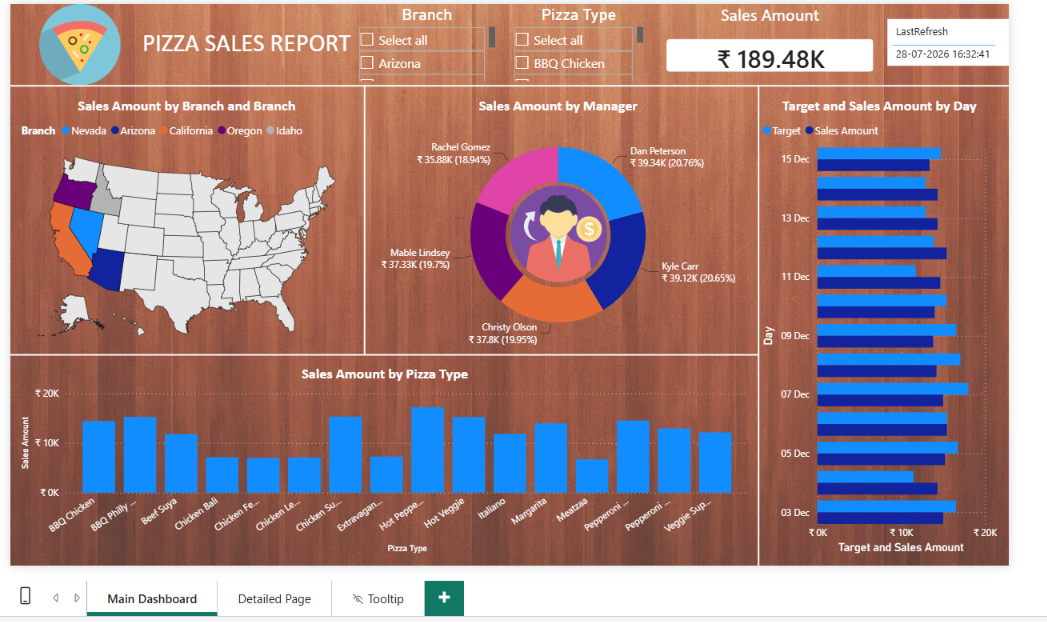

Layout of this report page (visuals, bound fields, positions):
{"tool":"powerbi","page":{"name":"Main Dashboard","canvas":[1280,720],"ordinal":0},"visuals":[{"type":"image","box":[34.4,0,109.2,104.3],"z":0},{"type":"textbox","box":[164.4,25.8,289.6,54],"z":1000},{"type":"tableEx","fields":{"Values":["LastRefreshdate.LastRefresh"]},"box":[1123.9,19.6,155.8,60.1],"z":2000},{"type":"shapeMap","fields":{"Category":["Branch Data.Branch"],"Series":["Branch Data.Branch"],"Value":["Sum(Sales.Sales Ampunt)"]},"box":[8.6,119,434.4,331.3],"z":3000},{"type":"donutChart","fields":{"Y":["Sum(Sales.Sales Ampunt)"],"Category":["Branch Data.Manager"]},"box":[454,119,496.9,331.3],"z":4000},{"type":"clusteredColumnChart","fields":{"Category":["Sales.Pizza Type"],"Y":["Sum(Sales.Sales Ampunt)"]},"box":[8.6,462.6,942.3,246.6],"z":5000},{"type":"clusteredBarChart","fields":{"Category":["Daily Target.Day"],"Y":["Sum(Daily Target.Target)","Sum(Sales.Sales Ampunt)"]},"box":[959.5,119,310.4,590.2],"z":6000},{"type":"cardVisual","title":"Sales Amount","fields":{"Data":["Sum(Sales.Sales Amount)"]},"box":[824.5,0,299.4,104.3],"z":7000},{"type":"image","box":[639.3,222.1,126.4,146],"z":8000},{"type":"shape","box":[0,85.9,1279.8,38],"z":9000},{"type":"shape","box":[0,430.7,959.5,38],"z":10000},{"type":"shape","box":[936.2,104.3,46.6,616],"z":11000},{"type":"shape","box":[430.7,104.3,46.6,346],"z":12000},{"type":"listSlicer","fields":{"Values":["Branch Data.Branch"]},"box":[442.9,1.2,184.1,103.1],"z":13000},{"type":"listSlicer","fields":{"Values":["Sales.Pizza Type"]},"box":[640.5,1.2,175.5,103.1],"z":14000}]}

Visuals, with their boxes on the page's 1280x720 design canvas (x1, y1, x2, y2). These are canvas units, not pixel positions in the 1047x622 screenshot, which may show the page scaled, cropped or inside an application window:
image: (x1=34, y1=0, x2=144, y2=104)
textbox: (x1=164, y1=26, x2=454, y2=80)
tableEx - LastRefreshdate.LastRefresh: (x1=1124, y1=20, x2=1280, y2=80)
shapeMap - Branch Data.Branch x Branch Data.Branch: (x1=9, y1=119, x2=443, y2=450)
donutChart - Sum(Sales.Sales Ampunt) x Branch Data.Manager: (x1=454, y1=119, x2=951, y2=450)
clusteredColumnChart - Sales.Pizza Type x Sum(Sales.Sales Ampunt): (x1=9, y1=463, x2=951, y2=709)
clusteredBarChart - Daily Target.Day x Sum(Daily Target.Target): (x1=960, y1=119, x2=1270, y2=709)
"Sales Amount" cardVisual: (x1=824, y1=0, x2=1124, y2=104)
image: (x1=639, y1=222, x2=766, y2=368)
shape: (x1=0, y1=86, x2=1280, y2=124)
shape: (x1=0, y1=431, x2=960, y2=469)
shape: (x1=936, y1=104, x2=983, y2=720)
shape: (x1=431, y1=104, x2=477, y2=450)
listSlicer - Branch Data.Branch: (x1=443, y1=1, x2=627, y2=104)
listSlicer - Sales.Pizza Type: (x1=640, y1=1, x2=816, y2=104)
